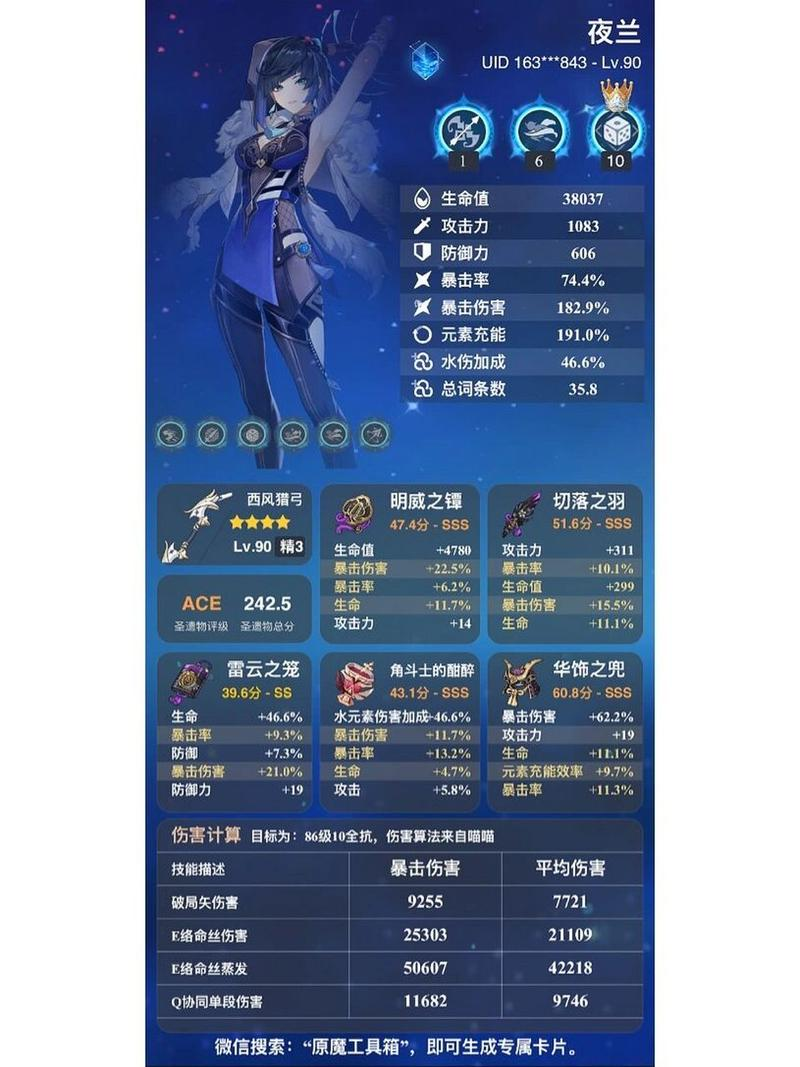夜兰: (183, 16, 405, 462)
